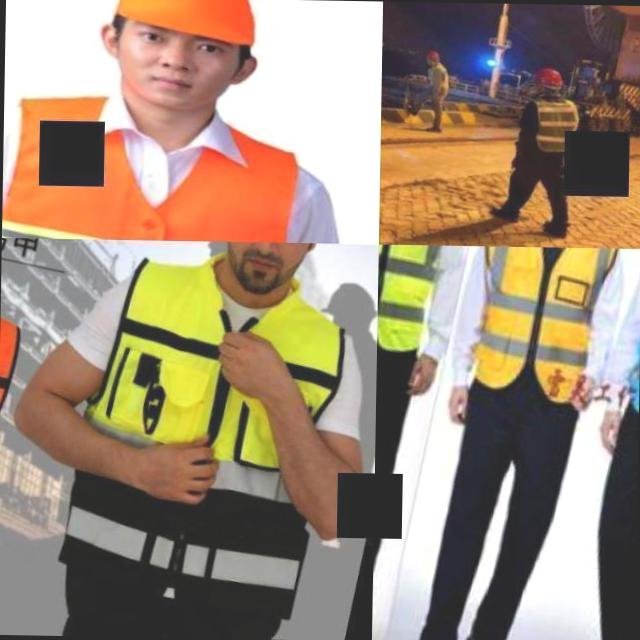vest: (70, 238, 364, 516), (1, 70, 348, 244), (450, 245, 630, 416), (376, 244, 458, 359), (518, 94, 588, 166)
